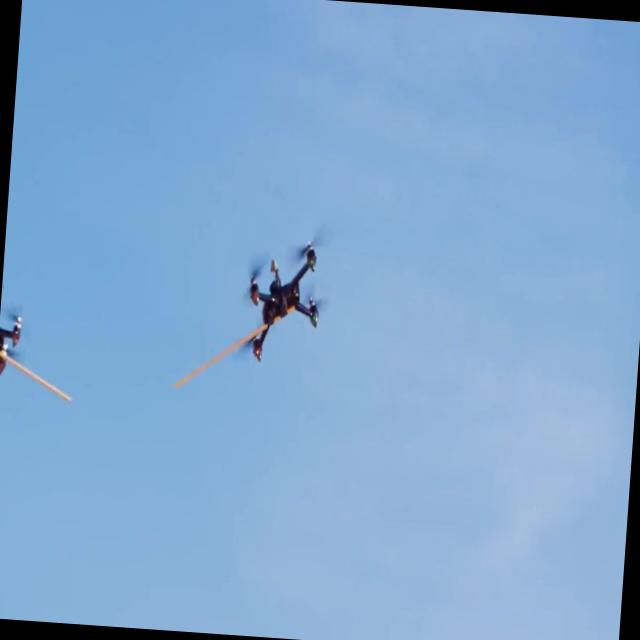drone: (236, 232, 324, 366)
